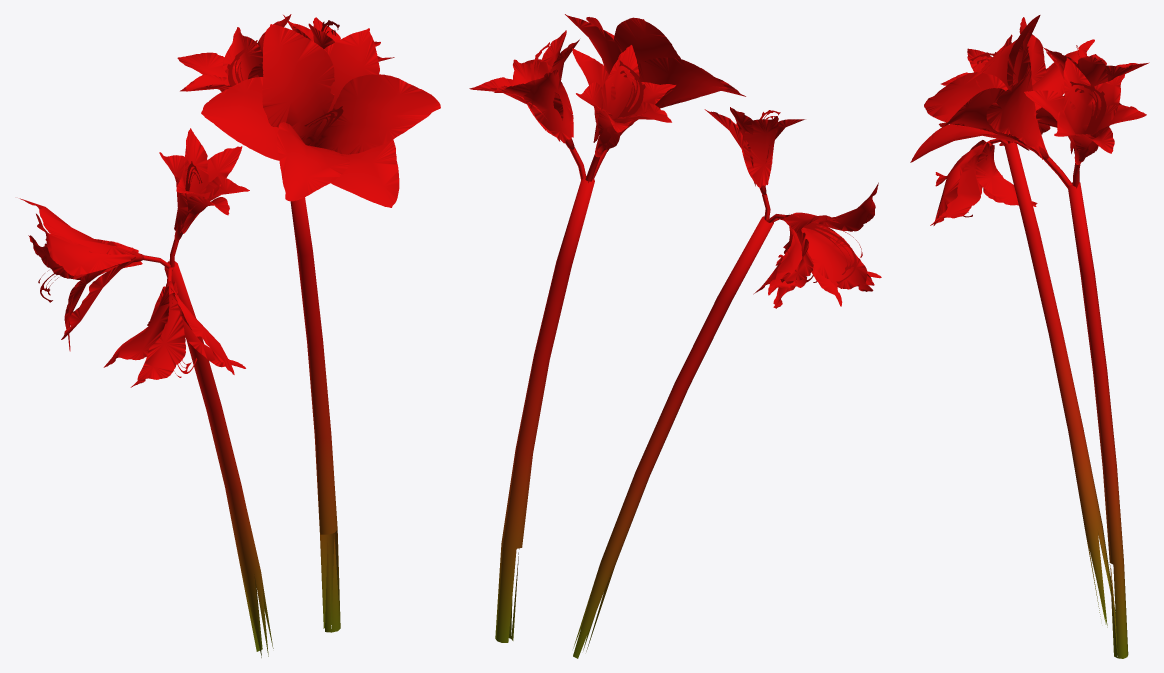
File: SM_Amaryllis_04.FBX
3 renders of one model, left to right at view 1: azimuth 30°, elevation 25°; view 2: azimuth 150°, elevation 25°; view 3: azimuth 270°, elevation 25°, orthographic. The views are drawn at different scales.
Parts seen in each view (by area): view 1: SM_Amaryllis_04; view 2: SM_Amaryllis_04; view 3: SM_Amaryllis_04.
Boxes of the visible parts, <box> form: SM_Amaryllis_04: <box>19,14,440,657</box>; SM_Amaryllis_04: <box>469,14,881,658</box>; SM_Amaryllis_04: <box>910,15,1149,658</box>.
Size of the model in its own units: 41.55 by 24.43 by 67.4.
